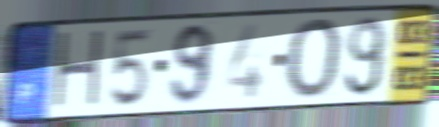4: (225, 21, 264, 103)
5: (107, 27, 156, 109)
9: (169, 20, 218, 109), (342, 13, 389, 100)
H: (49, 27, 107, 115)
O: (285, 15, 346, 102)
